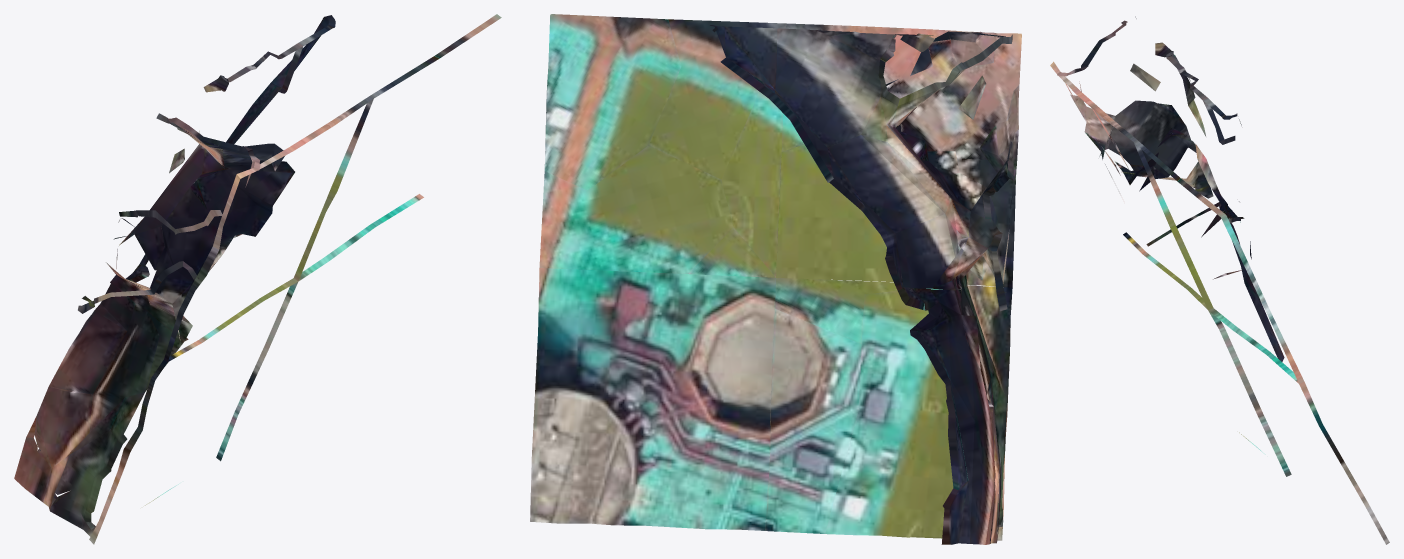
Rendered from AJVsH2ylMLNUSW-C2s-Yps_UBbQ4zifIeWQqVCgHSTdrs_ytu1iL0W8OJkW3KNbM112abNK70MPwXKW5gIWKyAVLx2pNnPonQbWhoKkAxL6P00DDk5R_os_W3FjUYcCl2leX_e0c8ZeSsfPK6Uxr-QTTLL-z.glb.
3 renders of one model, left to right at view 1: azimuth 30°, elevation 25°; view 2: azimuth 150°, elevation 25°; view 3: azimuth 270°, elevation 25°, orthographic. The views are drawn at different scales.
Size of the model in its own units: 40.68 by 38.77 by 29.71.
Materials: 1 (1 with a texture image).
